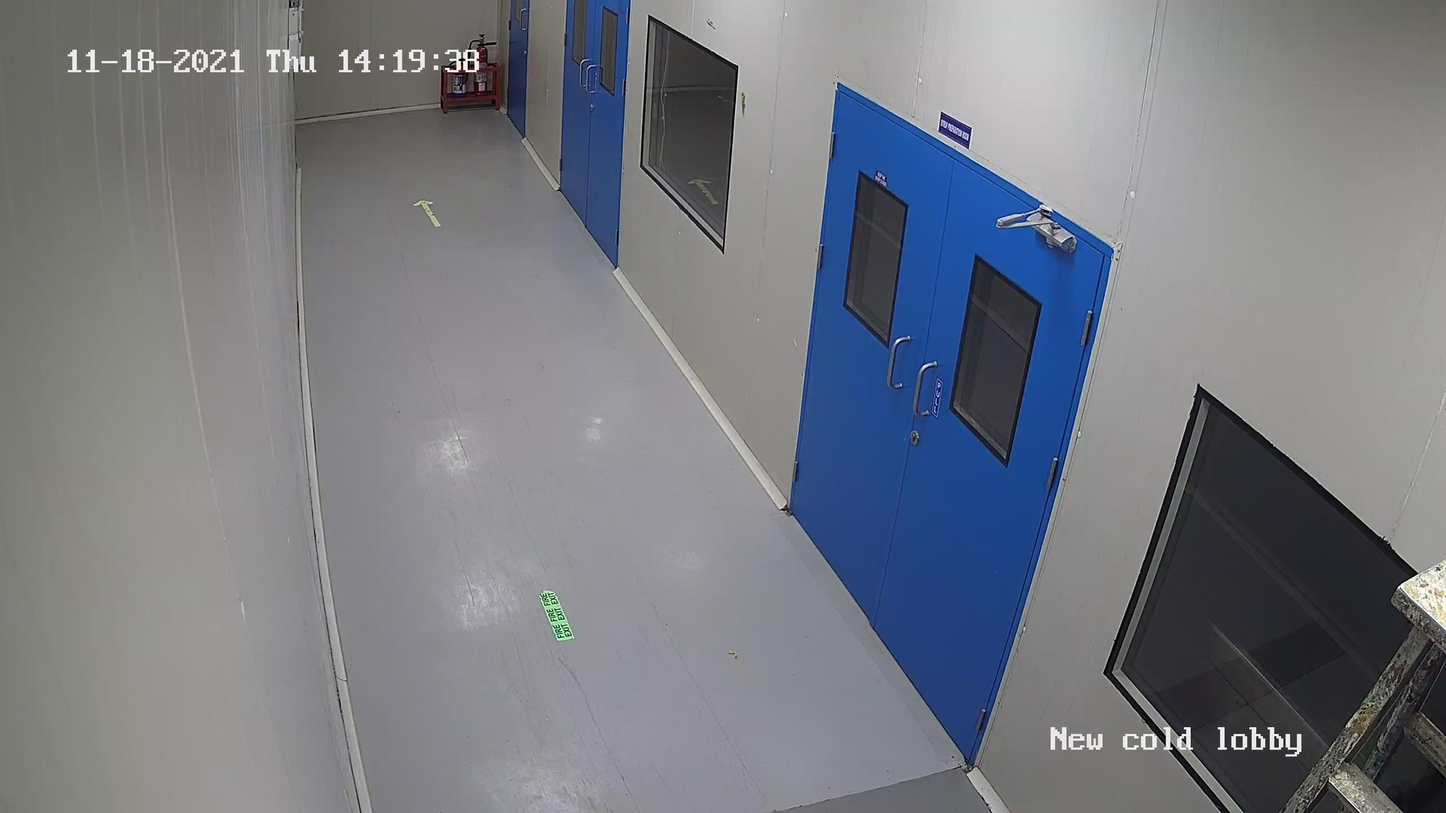lizard: (702, 16, 721, 33)
